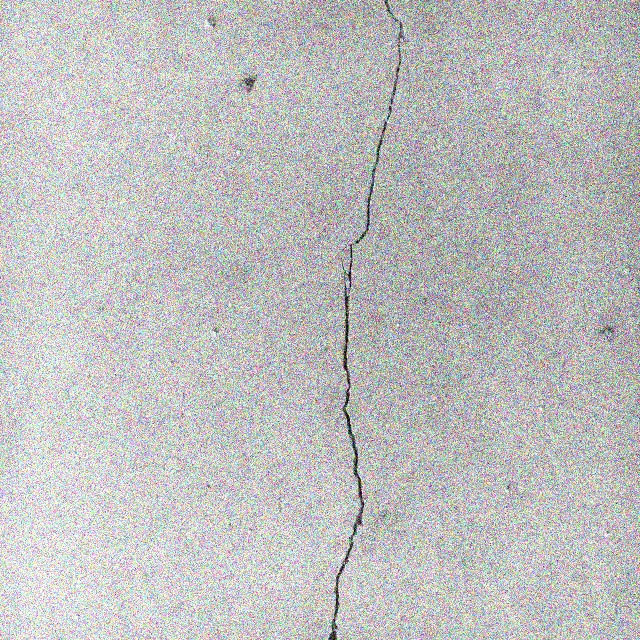SurfaceCrack: (285, 0, 445, 639)
